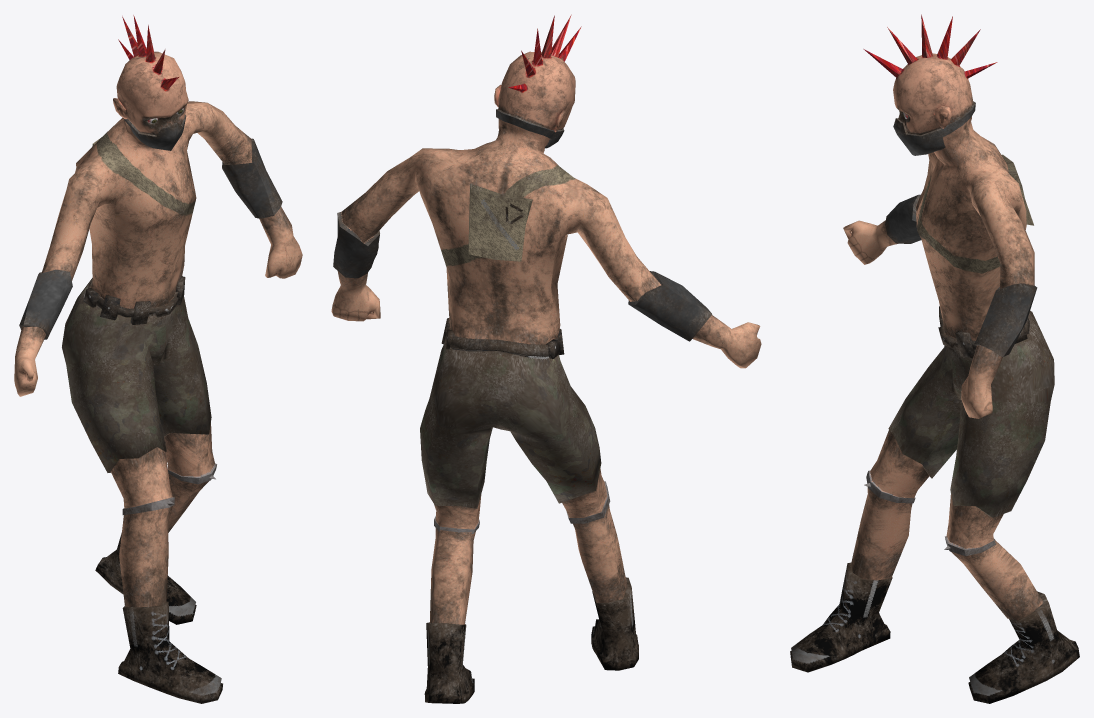
File: Anim_interruptor_npc2.0022.obj
3 renders of one model, left to right at view 1: azimuth 30°, elevation 25°; view 2: azimuth 150°, elevation 25°; view 3: azimuth 270°, elevation 25°, orthographic. The views are drawn at different scales.
Visible parts, largest first — view 1: polySurface1; view 2: polySurface1; view 3: polySurface1.
Boxes of the visible parts, <box> form: polySurface1: <box>14,15,302,703</box>; polySurface1: <box>331,14,761,703</box>; polySurface1: <box>790,14,1079,703</box>.
Bounding box in the file's own units: 5.56 × 9.82 × 3.96.
